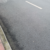others: (1, 1, 46, 47)
